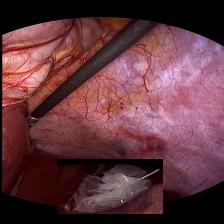Specimen Bag: (56, 159, 162, 214)
